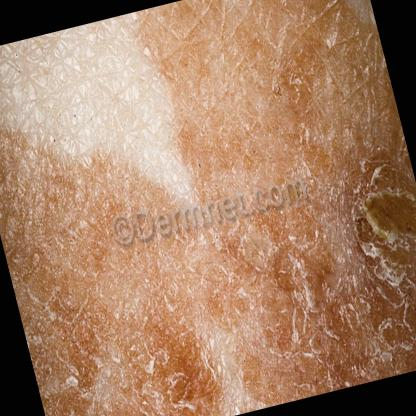Eczema: (118, 176, 416, 416), (136, 0, 407, 205), (0, 107, 161, 416)
